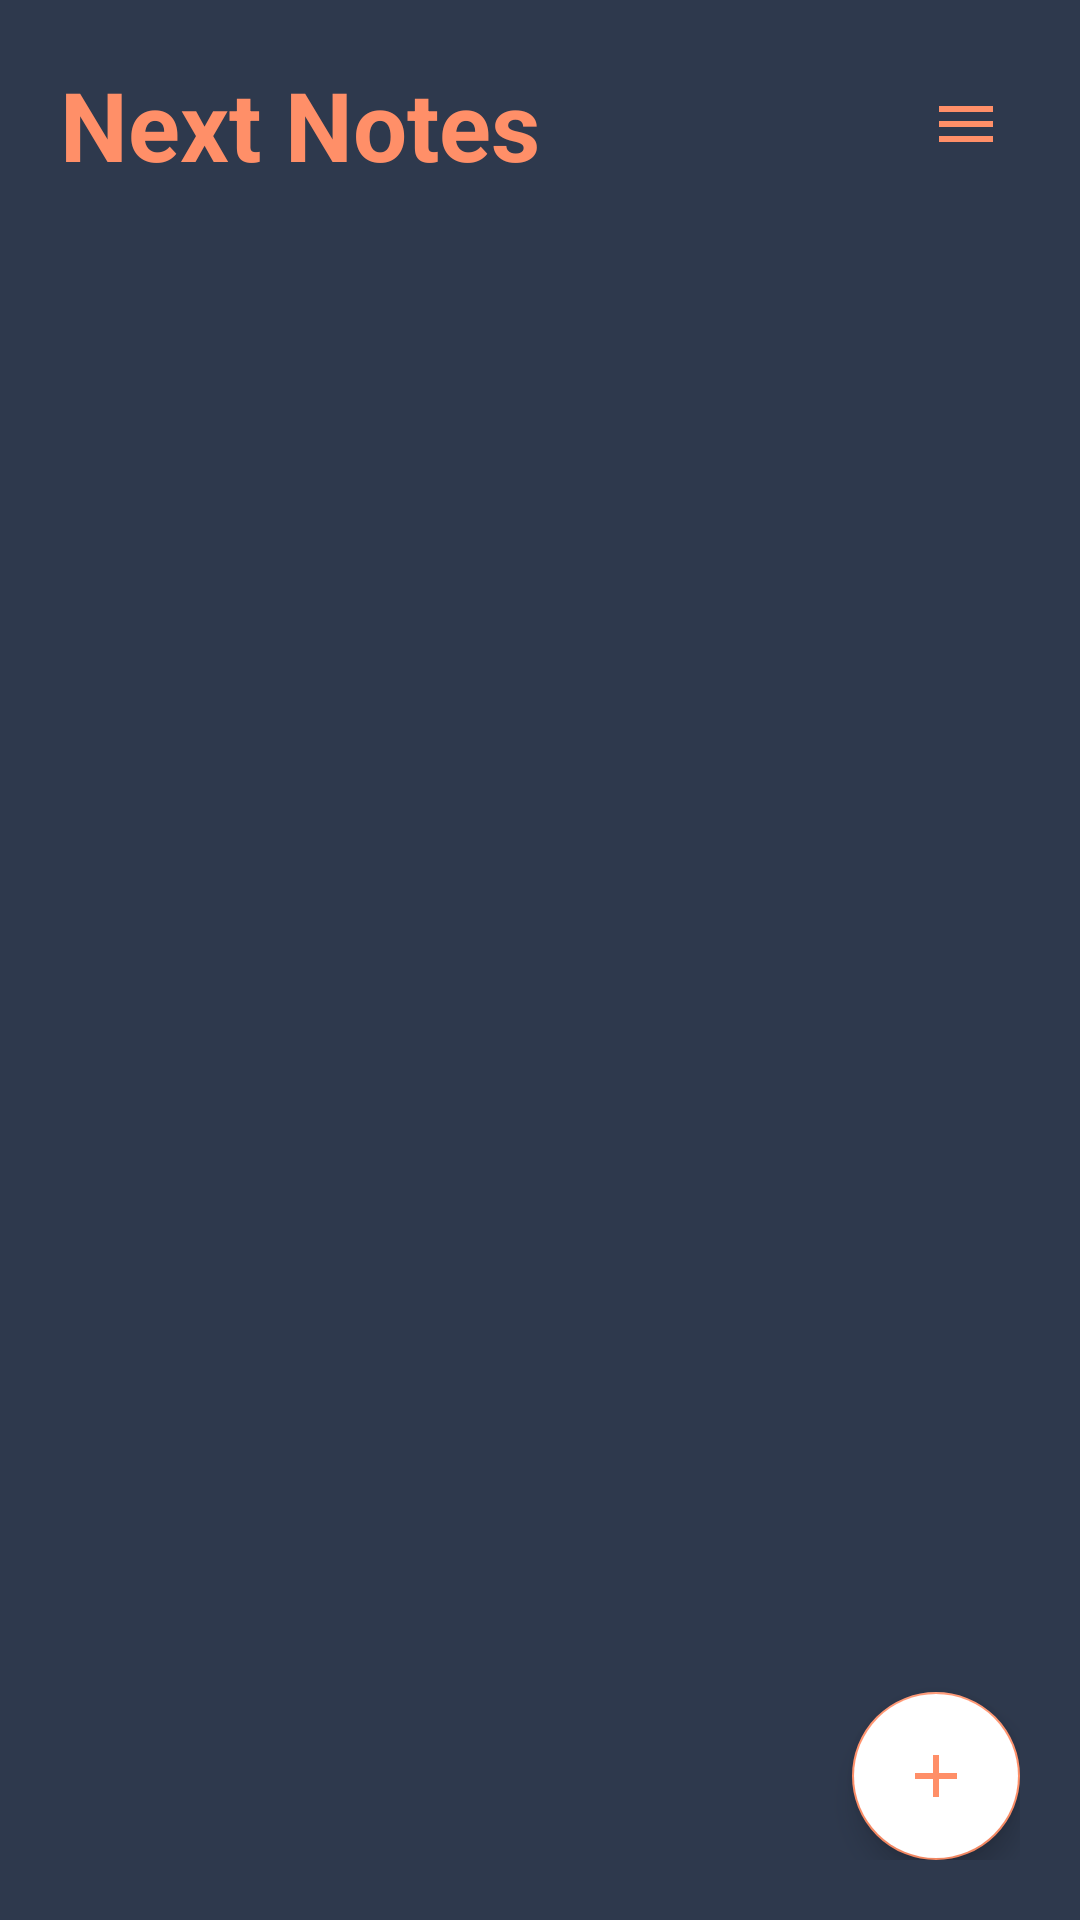

Icons on this 1080w x 1920h Android screen, each with its box as (left=x1, top=y1, right=x2, bottom=y2):
add: (left=852, top=1692, right=1020, bottom=1860)
menu: (left=939, top=106, right=993, bottom=142)
